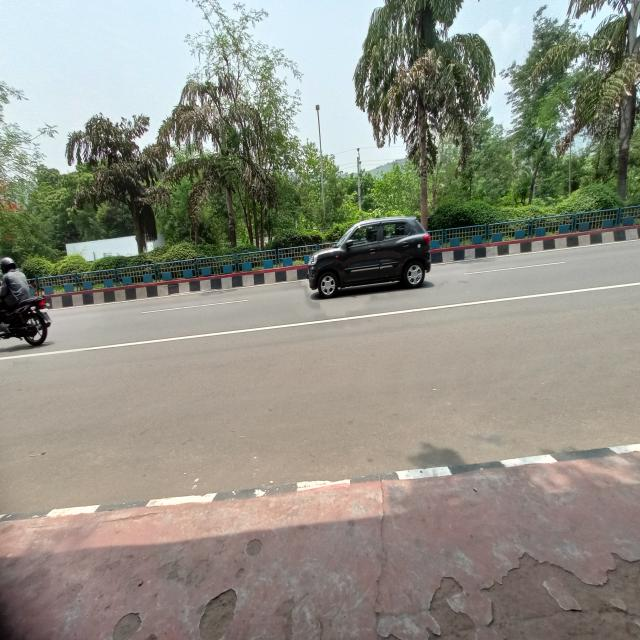bike: (1, 275, 51, 373)
car: (293, 212, 446, 300)
